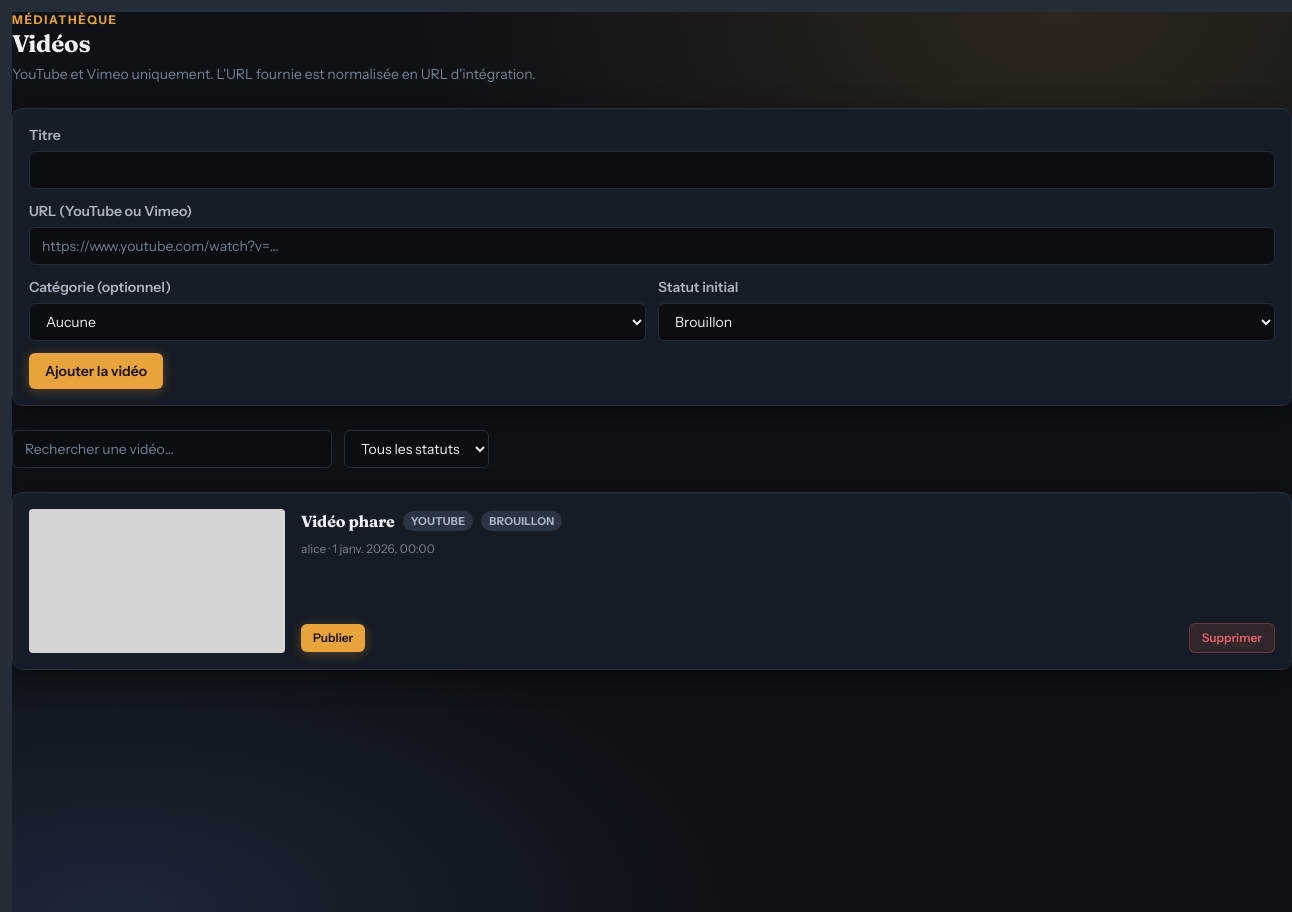
Test: MediaVideosPage › affiche l erreur serveur si la création échoue
Type "Invalide" into the field labelled "Titre" at (652, 170), box [29,151,1275,189]
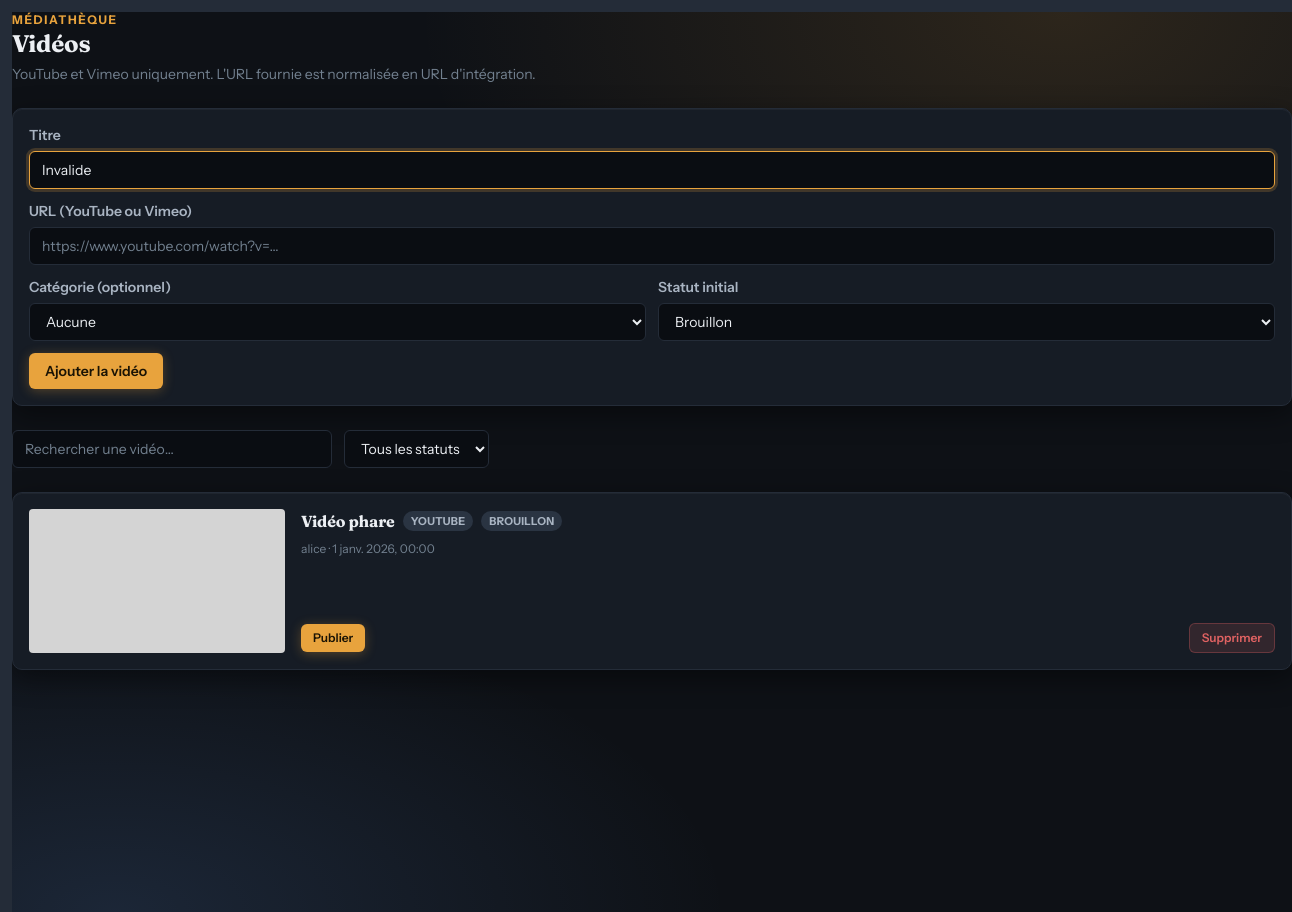
Type "https://example.com/x" into the field labelled "URL (YouTube ou Vimeo)" at (652, 246), box [29,227,1275,265]
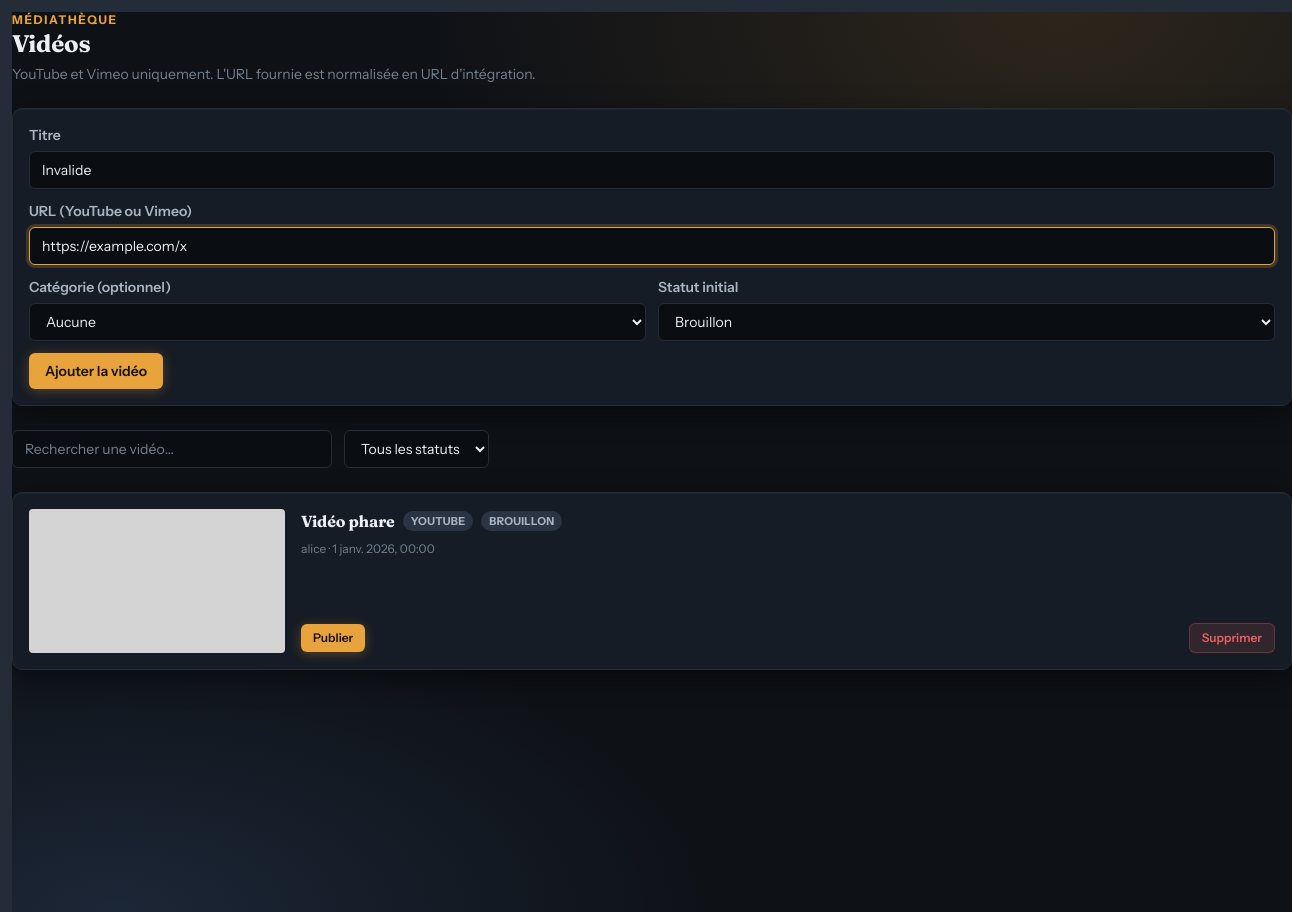
Click the button "Ajouter la vidéo" at (96, 371), box [29,353,163,389]
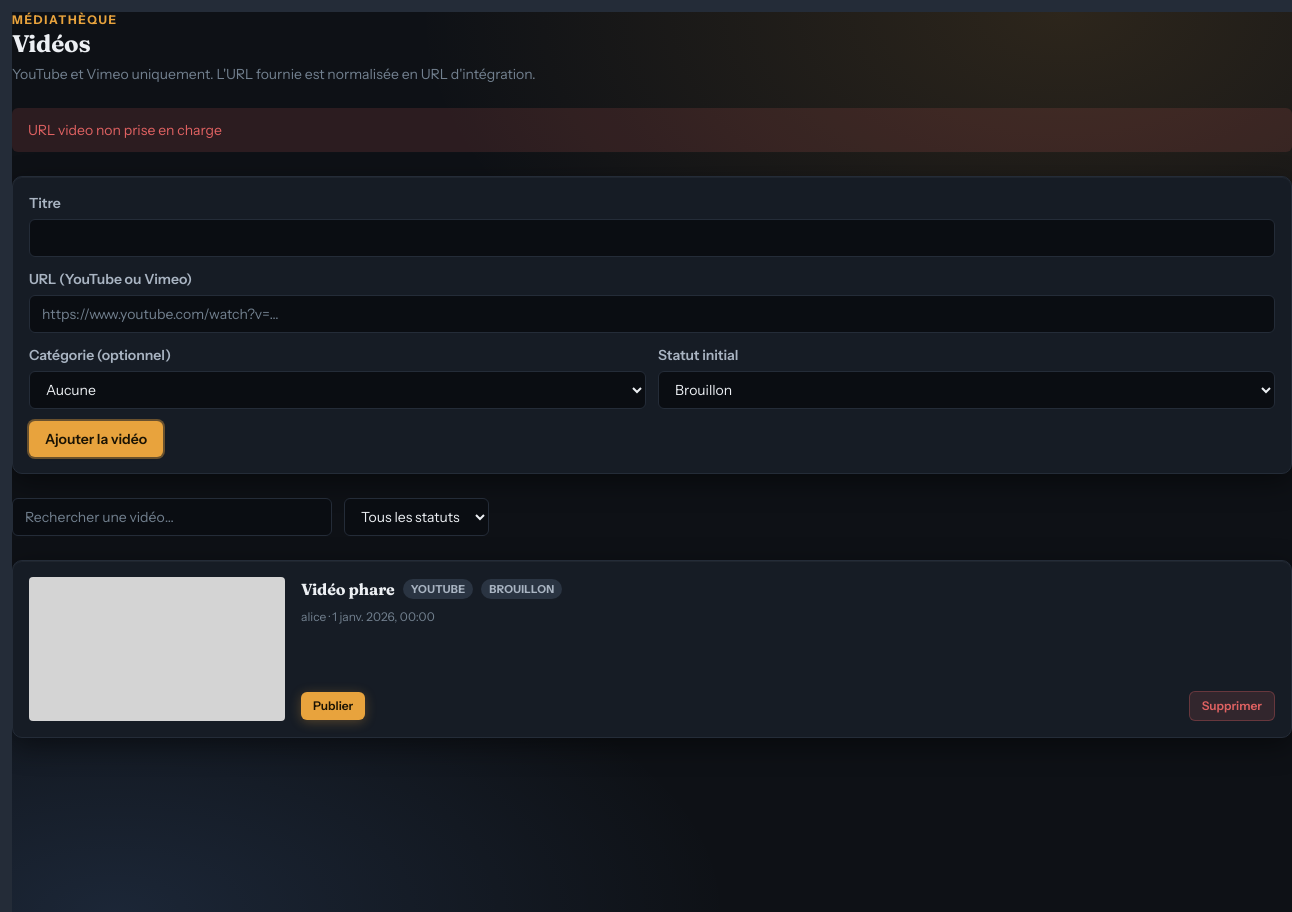
Check: the message reads "URL video non prise en charge", box [28,121,222,139]
